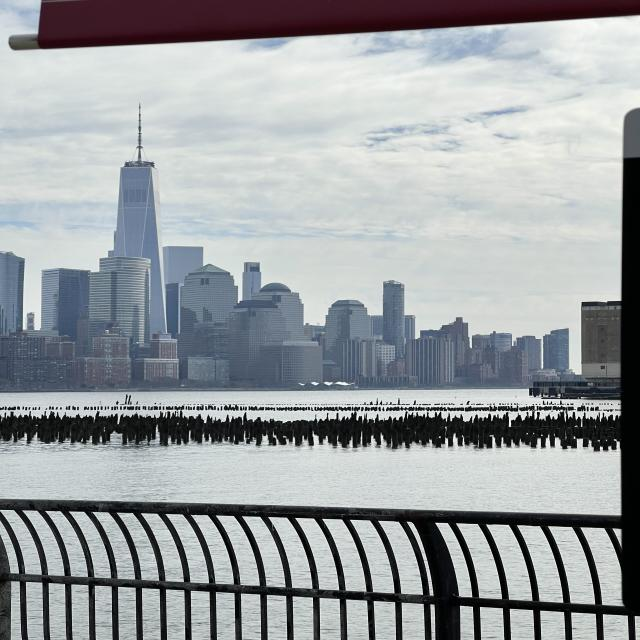WTC: (114, 103, 163, 258)
